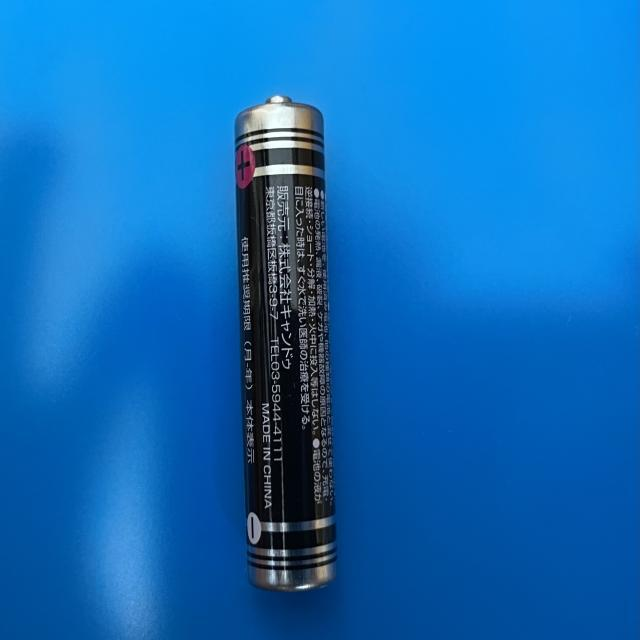hazardous waste: (230, 94, 339, 598)
